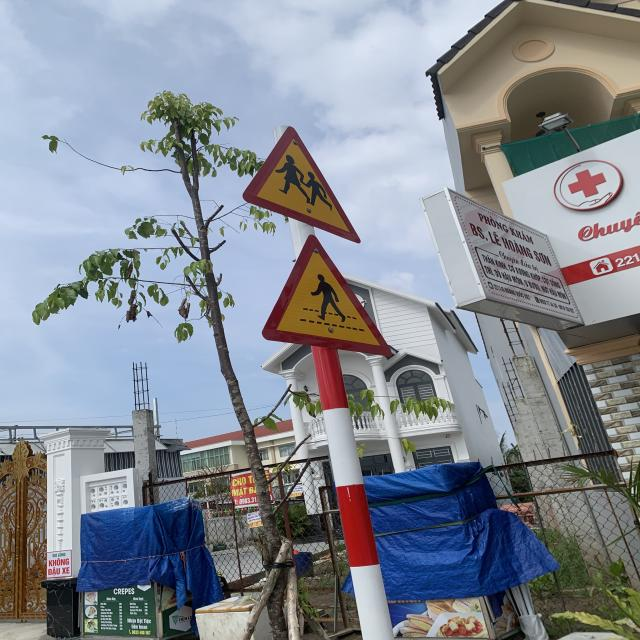Duong_Nguoi_Di_Bo_Sang_Ngang: (261, 234, 394, 356)
Vong_Xuyen: (242, 125, 366, 243)
